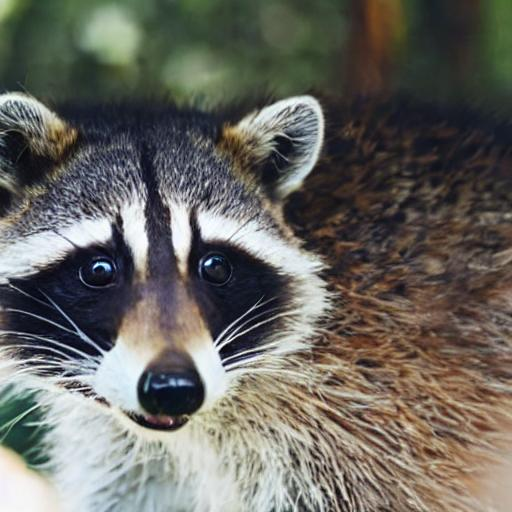raccoon: (0, 82, 512, 512)
